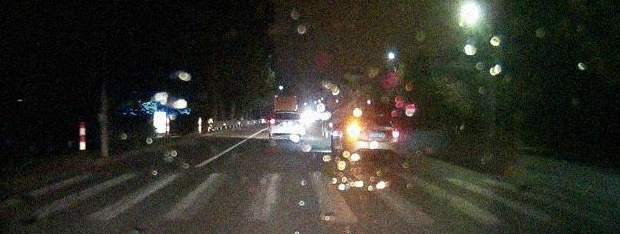L_light: (349, 128, 363, 135), (270, 121, 279, 125)
R_light: (385, 130, 398, 137), (293, 120, 303, 125)
T_light: (367, 117, 375, 120), (283, 113, 289, 115)
night-left: (348, 115, 398, 157)
night-no: (269, 112, 304, 141)
